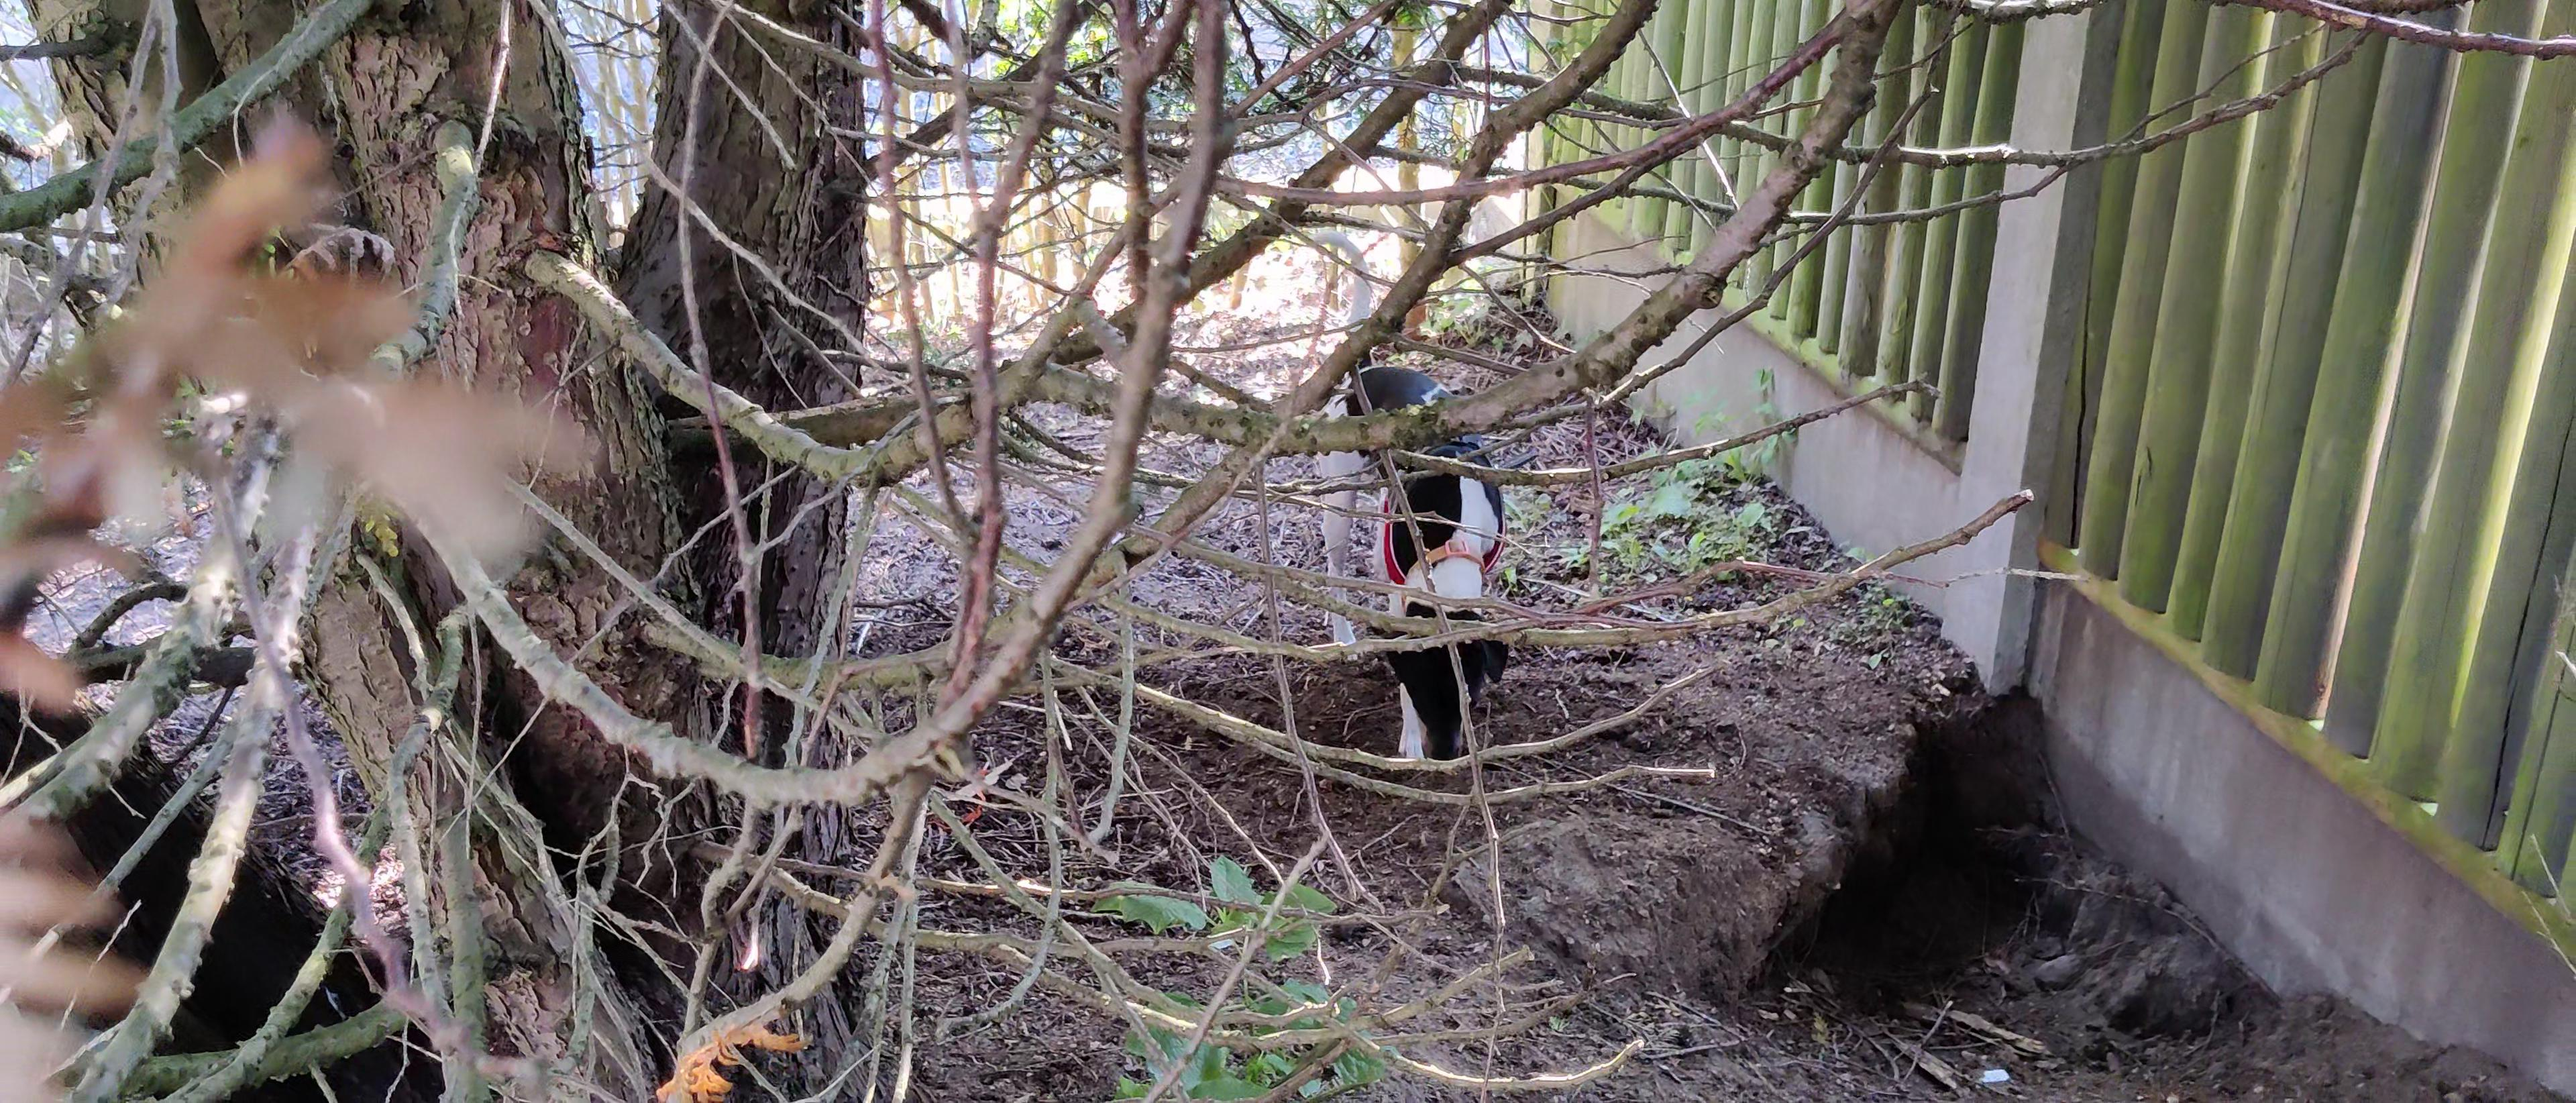Dog: (1301, 222, 1518, 779)
